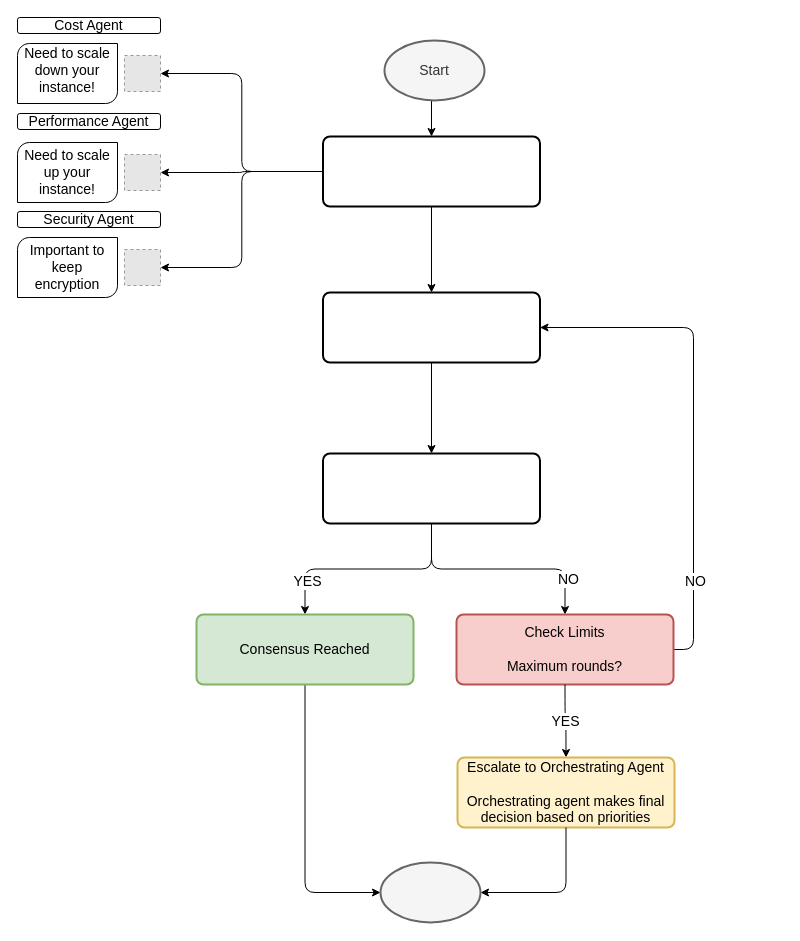
Some shapes in this 800 by 941 pixel diagram are drawn without their labels. Grey dashed boxes stand in for pictures. Here are the shapes that lost their labels. From the top down, the centre of each, then its label:
At (431,171): "Call All 5 Pillar Agents All pillar agents analyze workload in parallel".
At (431,327): "Round of Discussion Sequential review of all responses to analyze others".
At (431,488): "Evaluate Round Has consensus been achieved?".
At (430,892): "End".
